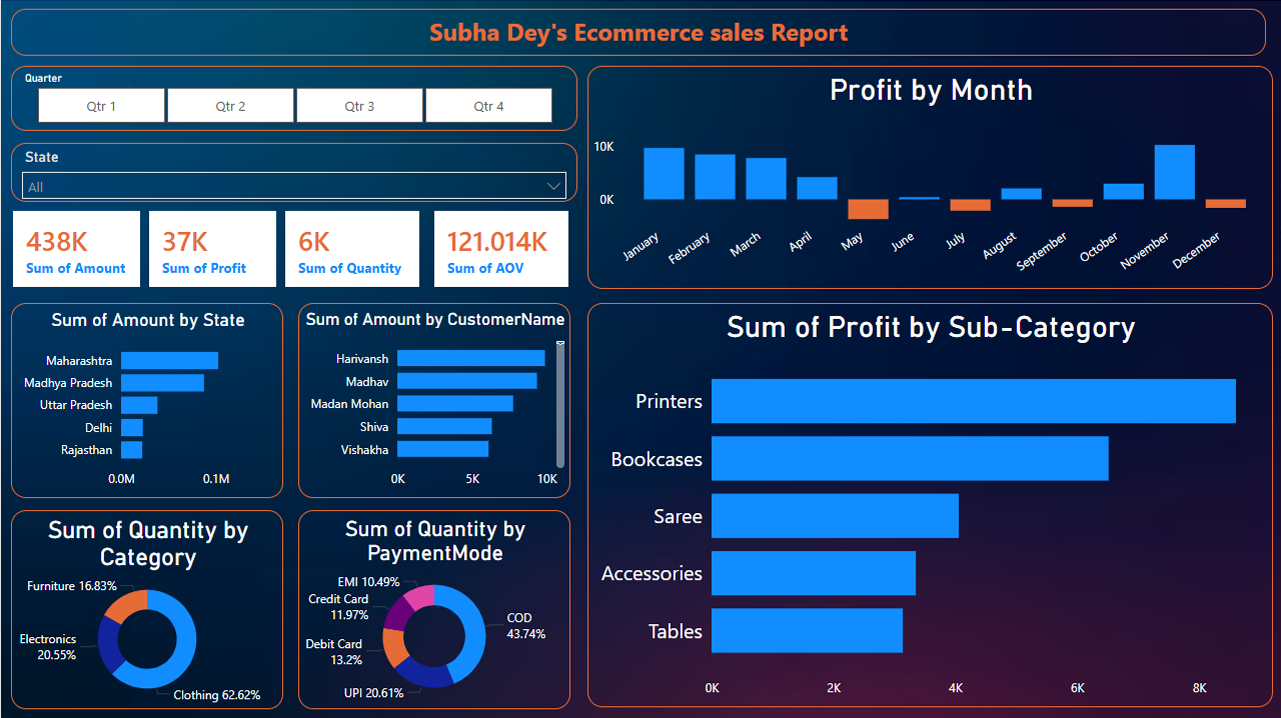

The page's visual inventory and layout, read from the dashboard file:
{"tool":"powerbi","page":{"name":"Page 1","canvas":[1280,720],"ordinal":0},"visuals":[{"type":"textbox","box":[9.7,8.8,1254.7,47.7],"z":0},{"type":"columnChart","title":"Profit by Month","fields":{"Category":["Orders.Order Date.Variation.Date Hierarchy.Month"],"Y":["Sum(Details.Profit)"]},"box":[585.5,66.1,685.7,222.7],"z":1000},{"type":"barChart","fields":{"Category":["Details.Sub-Category"],"Y":["Sum(Details.Profit)"]},"box":[585.5,303.5,685.7,403.6],"z":2000},{"type":"donutChart","fields":{"Category":["Details.Category"],"Y":["Sum(Details.Quantity)"]},"box":[9.7,509.7,272.3,199.4],"z":3000},{"type":"donutChart","fields":{"Category":["Details.PaymentMode"],"Y":["Sum(Details.Quantity)"]},"box":[296.7,509.7,272.3,199.4],"z":4000},{"type":"cardVisual","fields":{"Data":["Sum(Details.Amount)"]},"box":[9.7,209.1,131.3,79.8],"z":5000},{"type":"cardVisual","fields":{"Data":["Sum(Details.Profit)"]},"box":[145.9,209.1,131.3,79.8],"z":6000},{"type":"cardVisual","fields":{"Data":["Sum(Details.Quantity)"]},"box":[282.1,209.1,138.1,79.8],"z":7000},{"type":"cardVisual","fields":{"Data":["Sum(Details.AOV)"]},"box":[430.9,209.1,138.1,79.8],"z":8000},{"type":"barChart","fields":{"Category":["Orders.State"],"Y":["Sum(Details.Amount)"]},"box":[9.7,303.5,272.3,194.5],"z":9000},{"type":"barChart","fields":{"Category":["Orders.CustomerName"],"Y":["Sum(Details.Amount)"]},"box":[296.7,303.5,272.3,194.5],"z":10000},{"type":"slicer","fields":{"Values":["Orders.Order Date.Variation.Date Hierarchy.Quarter"]},"box":[9.7,66.1,566.1,65.2],"z":11000},{"type":"slicer","fields":{"Values":["Orders.State"]},"box":[9.7,143,566.1,59.3],"z":11001}]}

Visuals, with their boxes in screenshot pixels (x1, y1, x2, y2), scaled from the page's 1280x720 canvas onto the 1281x718 screenshot:
textbox: select_region(10, 9, 1265, 56)
"Profit by Month" columnChart: select_region(586, 66, 1272, 288)
barChart - Details.Sub-Category x Sum(Details.Profit): select_region(586, 303, 1272, 705)
donutChart - Details.Category x Sum(Details.Quantity): select_region(10, 508, 282, 707)
donutChart - Details.PaymentMode x Sum(Details.Quantity): select_region(297, 508, 569, 707)
cardVisual - Sum(Details.Amount): select_region(10, 209, 141, 288)
cardVisual - Sum(Details.Profit): select_region(146, 209, 277, 288)
cardVisual - Sum(Details.Quantity): select_region(282, 209, 421, 288)
cardVisual - Sum(Details.AOV): select_region(431, 209, 569, 288)
barChart - Orders.State x Sum(Details.Amount): select_region(10, 303, 282, 497)
barChart - Orders.CustomerName x Sum(Details.Amount): select_region(297, 303, 569, 497)
slicer - Orders.Order Date.Variation.Date Hierarchy.Quarter: select_region(10, 66, 576, 131)
slicer - Orders.State: select_region(10, 143, 576, 202)
